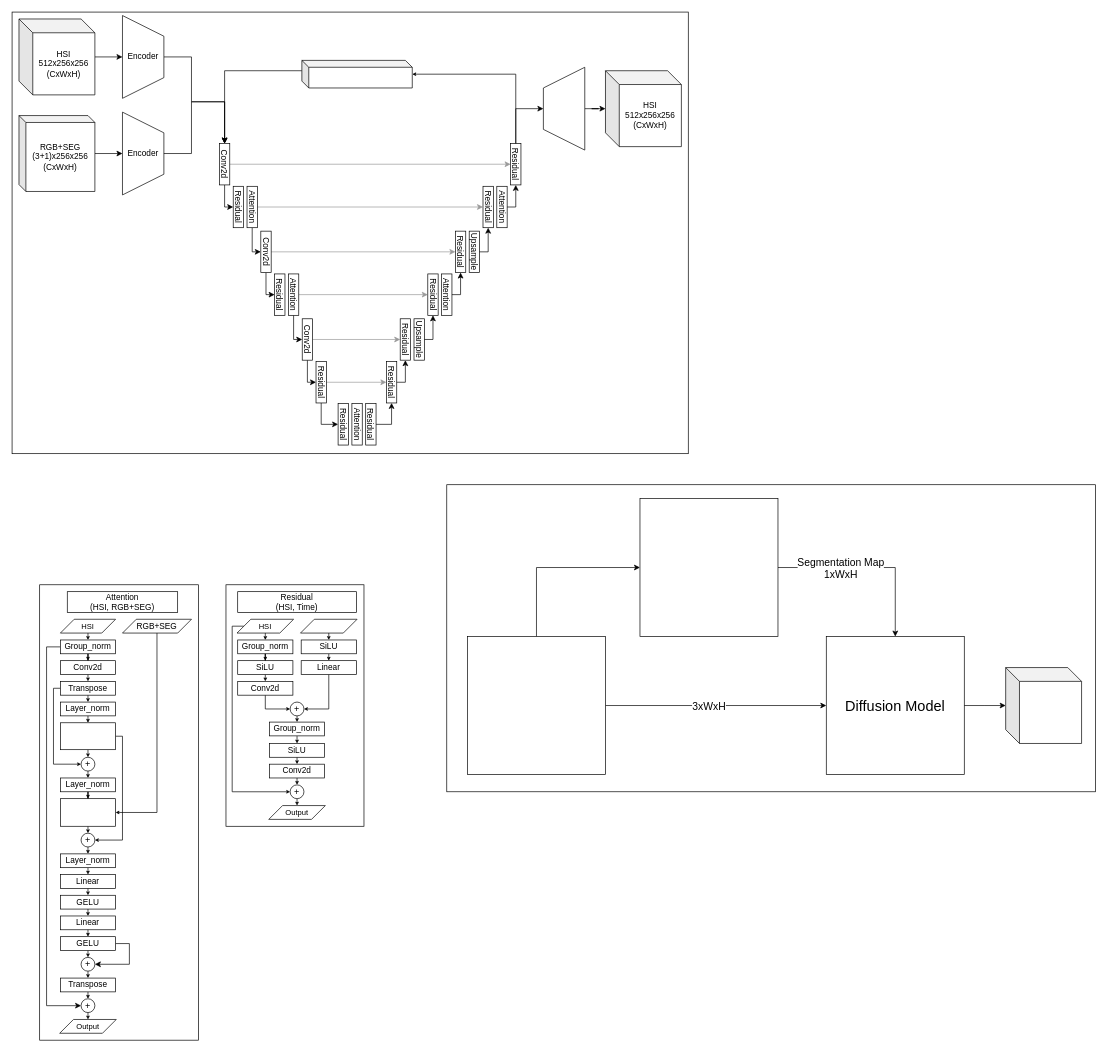
The diagram is 1107 pixels wide and 1052 high, and some of its shapes have lost their labels. The shapes that lost their labels are listed below. From the top down, each one's box as (x1, y1, x2, y2) in pixels, then its label:
(301, 60, 412, 88): TIME 1x320
(543, 67, 585, 150): Decoder
(639, 498, 778, 637): RGB Segmentation Model
(300, 619, 357, 633): Time
(467, 636, 605, 775): RGB Image
(1005, 667, 1082, 743): HSI 512x512x512 (CxWxH)
(60, 722, 116, 750): Self Attension
(60, 798, 116, 826): Cross Attension
